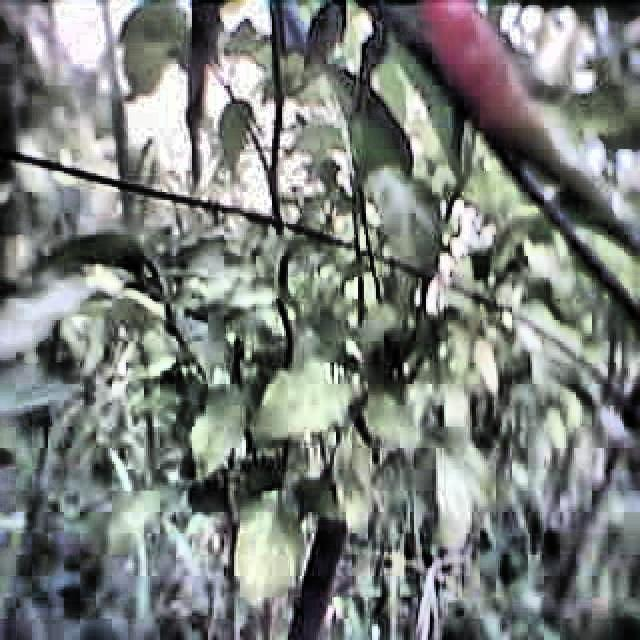Cabai: (414, 0, 606, 232)
